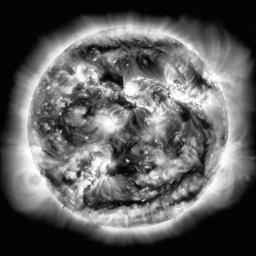solar flares: (133, 164, 188, 182), (161, 66, 187, 102), (79, 144, 107, 170), (91, 111, 120, 131), (145, 104, 169, 127), (75, 65, 100, 86), (123, 79, 143, 102), (186, 92, 207, 110), (145, 149, 167, 165), (98, 87, 118, 97)
sunspots: (108, 141, 134, 174), (121, 100, 142, 130), (99, 69, 126, 91), (97, 196, 158, 205), (55, 116, 77, 139), (134, 51, 155, 73), (73, 100, 96, 120), (164, 134, 180, 159), (200, 134, 208, 177), (86, 45, 116, 54), (175, 105, 189, 122), (63, 174, 78, 187), (192, 72, 202, 89), (197, 115, 208, 129), (179, 192, 198, 200)
